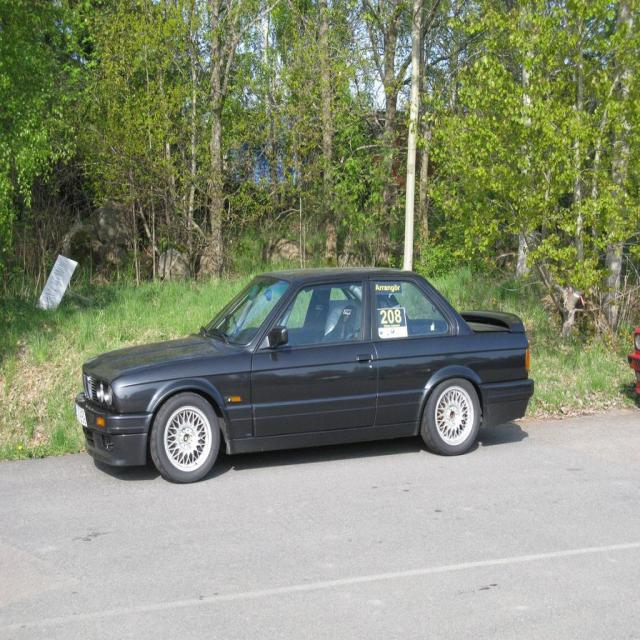car: (70, 260, 534, 482)
